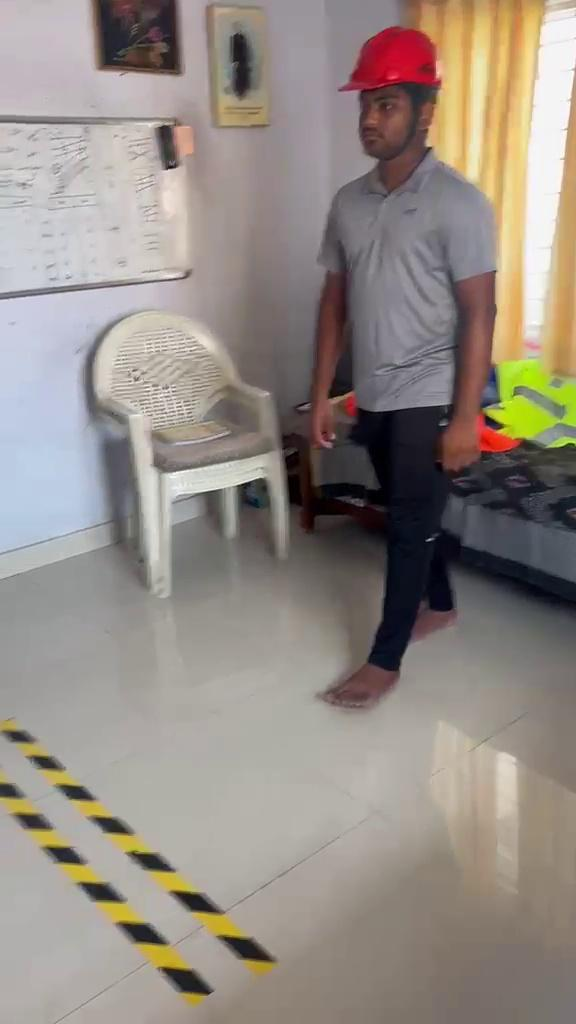BorderLine: (0, 719, 278, 1006)
Helmet: (338, 26, 444, 92)
No_Vest: (316, 150, 500, 413)
Person: (308, 26, 500, 708)
